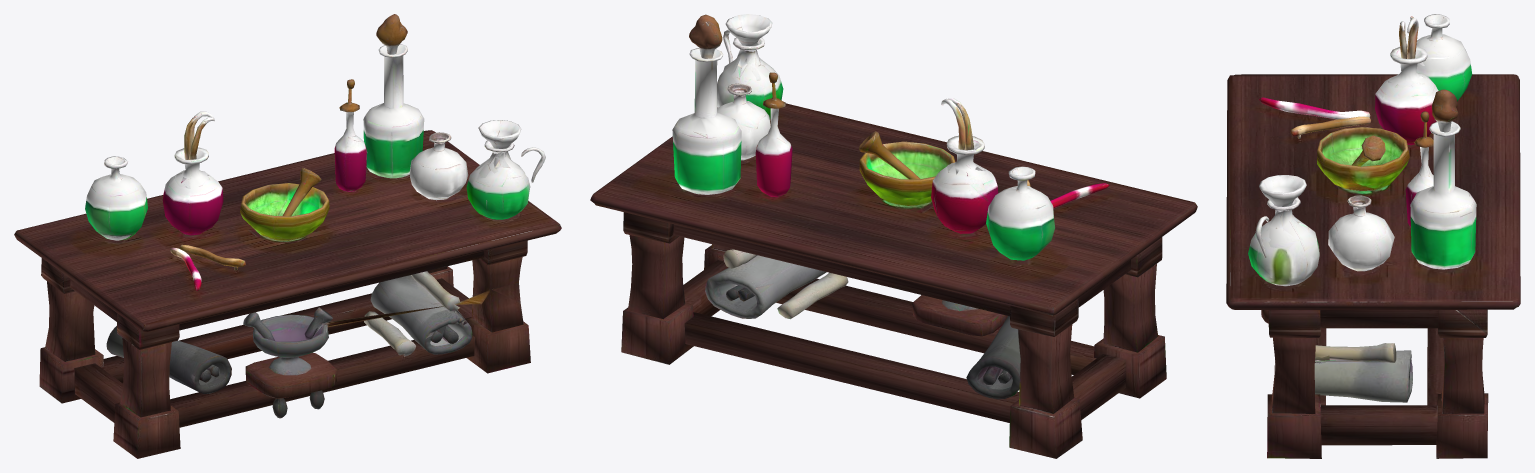
File: alchemy-table.glb
3 views of the same model, side by side, from view 1: azimuth 30°, elevation 25°; view 2: azimuth 150°, elevation 25°; view 3: azimuth 270°, elevation 25° (orthographic). The views are drawn at different scales.
Bounding box in the file's own units: 1.6 × 1.11 × 0.8758.
Materials: 1 (1 with a texture image).
